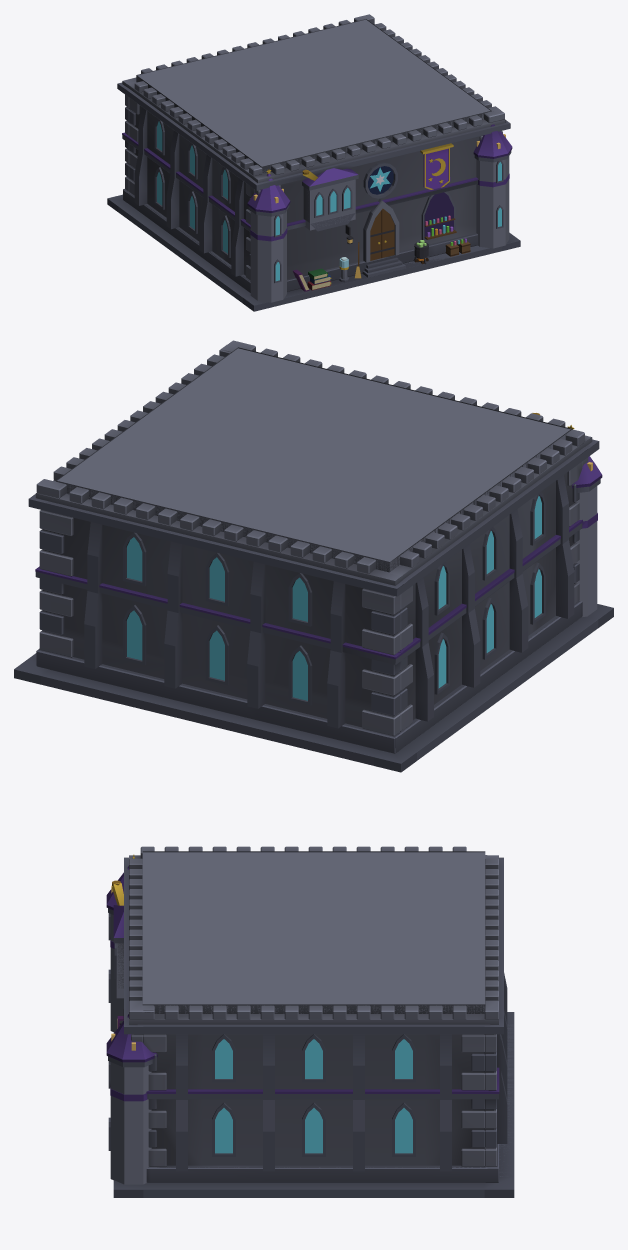
File: RatWizardFloor.fbx
3 views of the same model, one above another, from view 1: azimuth 30°, elevation 25°; view 2: azimuth 150°, elevation 25°; view 3: azimuth 270°, elevation 25° (orthographic). The views are drawn at different scales.
Visible parts, largest first — view 1: WZ_S_All, WZ_F_Rings, WZ_F_Smooth, WZ_F_Quiet, WZ_F_Props, WZ_F_Glass; view 2: WZ_S_All, WZ_F_Rings, WZ_F_Quiet, WZ_F_Smooth, WZ_F_Glass, WZ_F_Props; view 3: WZ_S_All, WZ_F_Rings, WZ_F_Quiet, WZ_F_Smooth, WZ_F_Glass, WZ_F_Props.
Part boxes in pixels (bbox=[...]): WZ_S_All: bbox=[108, 20, 520, 311]; WZ_F_Rings: bbox=[123, 14, 504, 302]; WZ_F_Smooth: bbox=[107, 17, 520, 311]; WZ_F_Quiet: bbox=[108, 82, 519, 305]; WZ_F_Props: bbox=[247, 124, 512, 291]; WZ_F_Glass: bbox=[157, 121, 505, 281]; WZ_S_All: bbox=[14, 348, 613, 772]; WZ_F_Rings: bbox=[36, 340, 591, 735]; WZ_F_Quiet: bbox=[14, 439, 613, 763]; WZ_F_Smooth: bbox=[14, 346, 613, 772]; WZ_F_Glass: bbox=[127, 462, 592, 700]; WZ_F_Props: bbox=[532, 413, 601, 528]; WZ_S_All: bbox=[110, 852, 514, 1197]; WZ_F_Rings: bbox=[117, 846, 498, 1167]; WZ_F_Quiet: bbox=[114, 858, 513, 1189]; WZ_F_Smooth: bbox=[106, 847, 513, 1197]; WZ_F_Glass: bbox=[111, 885, 412, 1153]; WZ_F_Props: bbox=[106, 866, 157, 1101].
Bounding box in the file's own units: 60 × 20 × 60.
